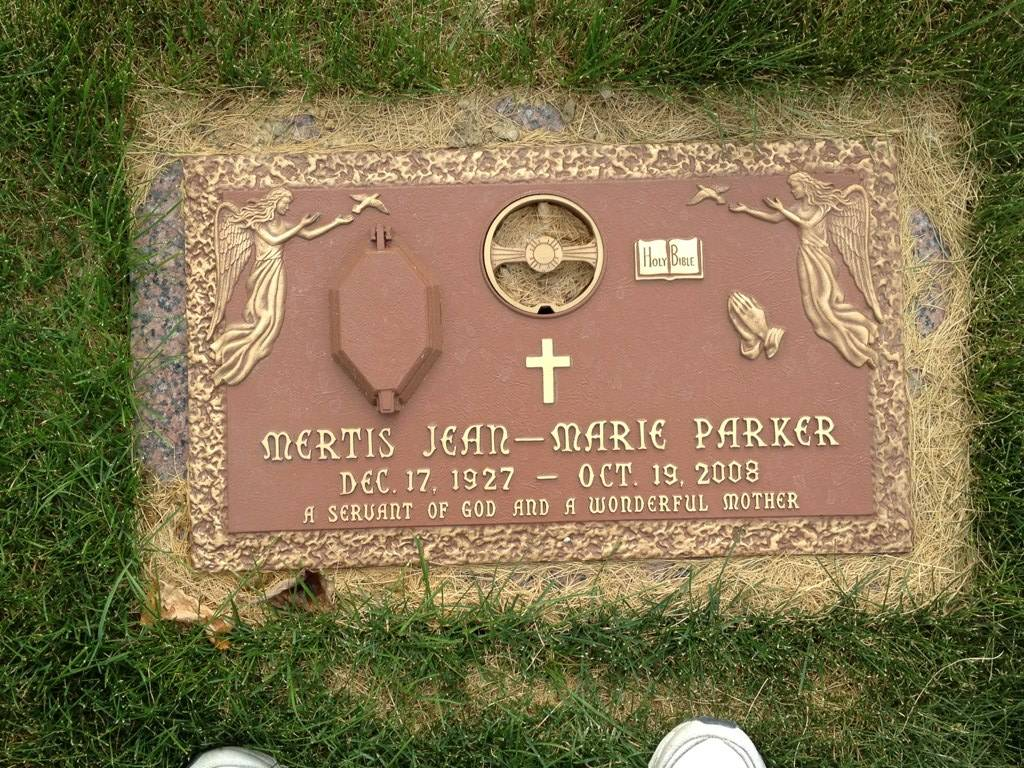flat: (110, 98, 971, 612)
